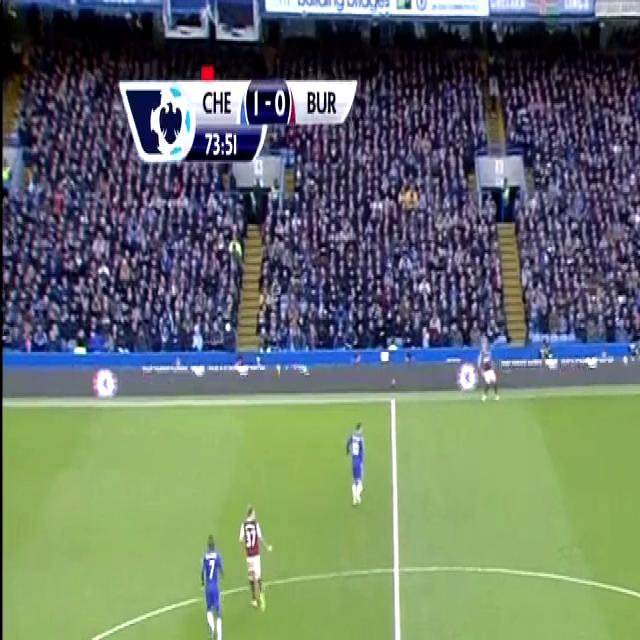soccer-player: (239, 494, 281, 620), (190, 522, 226, 640), (342, 413, 371, 516), (468, 334, 498, 412), (32, 631, 74, 640)
